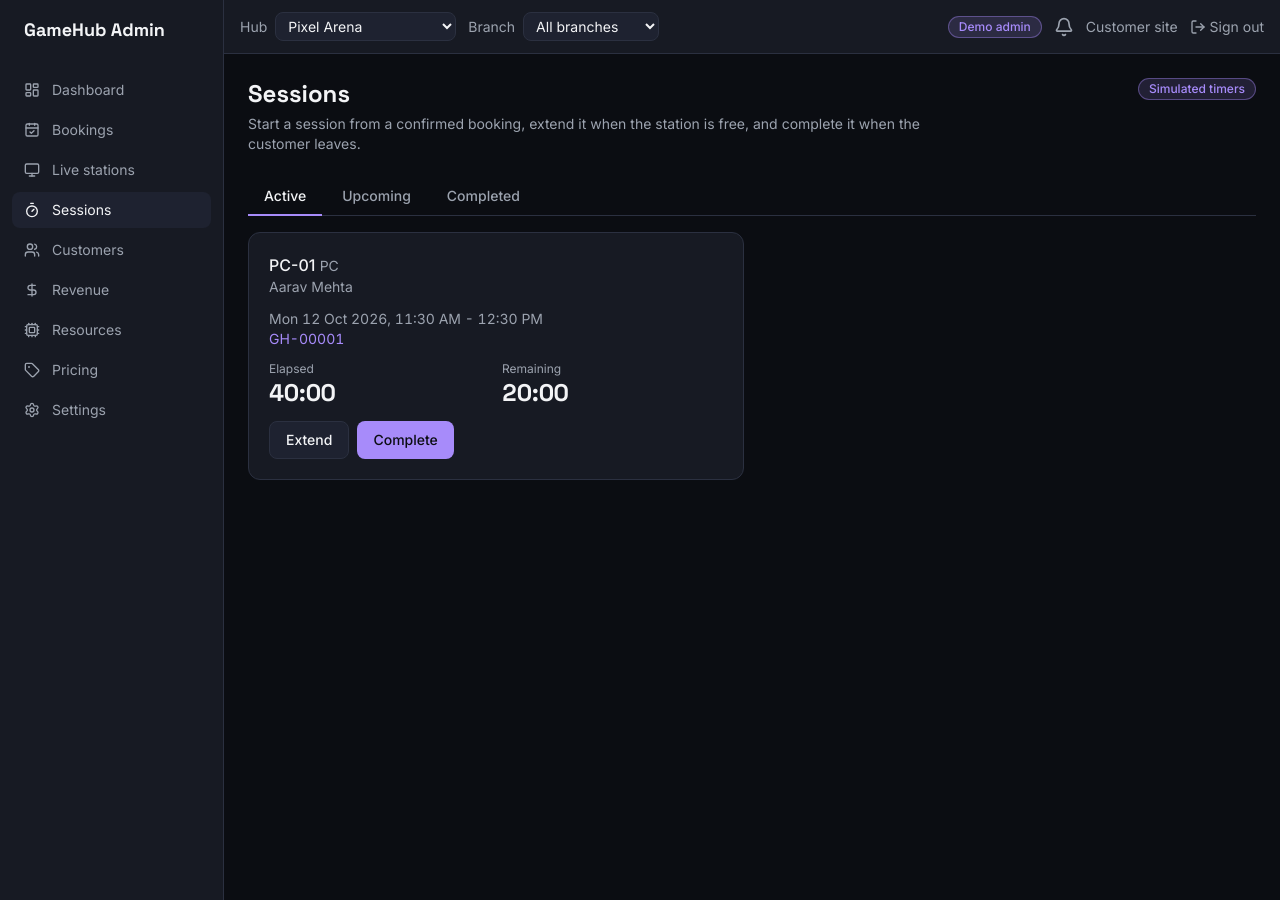
Test: Sessions › rejects an extension that clashes and shows the validation result
Click the button "Extend". click: (309, 440)
box: [269,421,349,459]
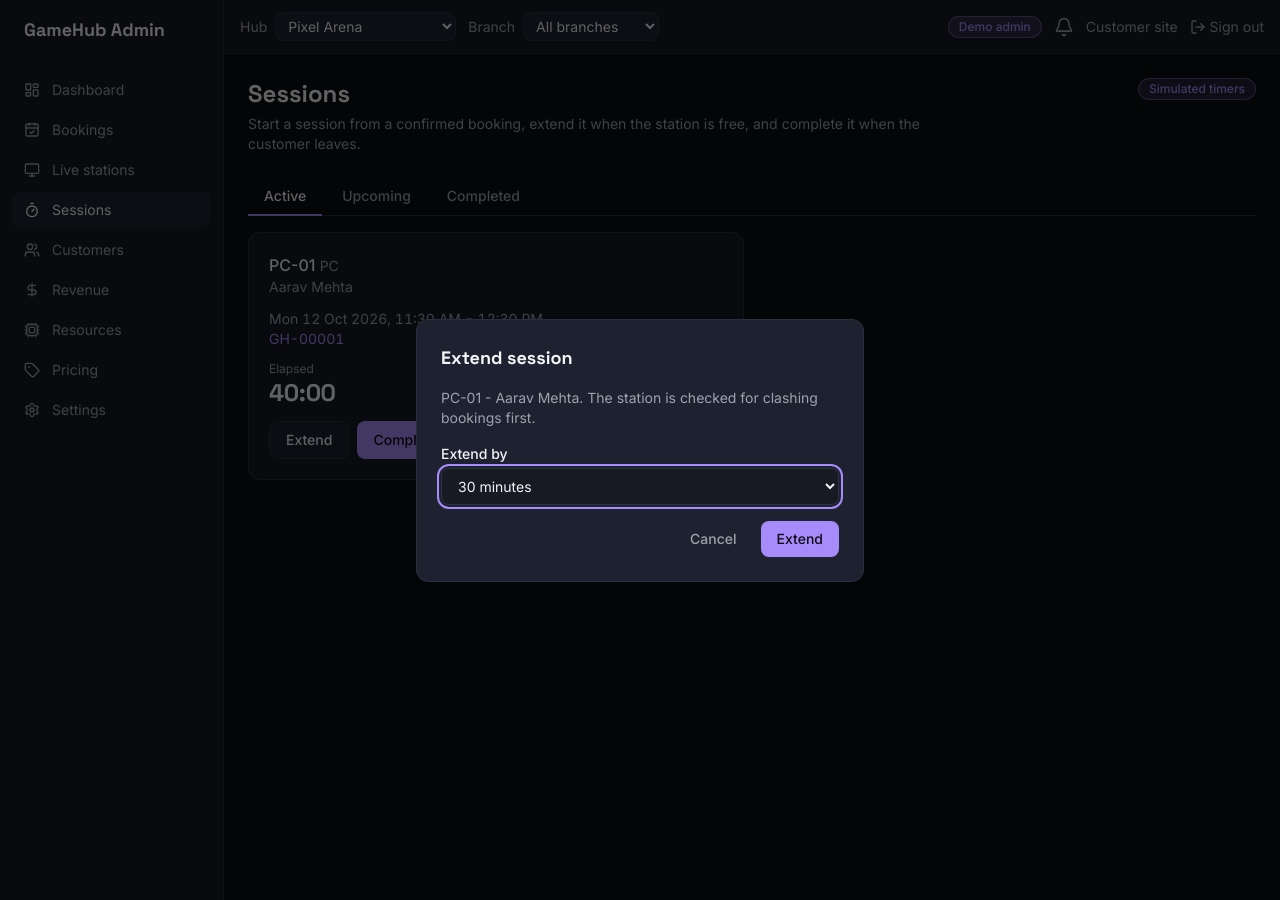
Click the button "Extend". click: (800, 538)
box: [761,520,839,556]
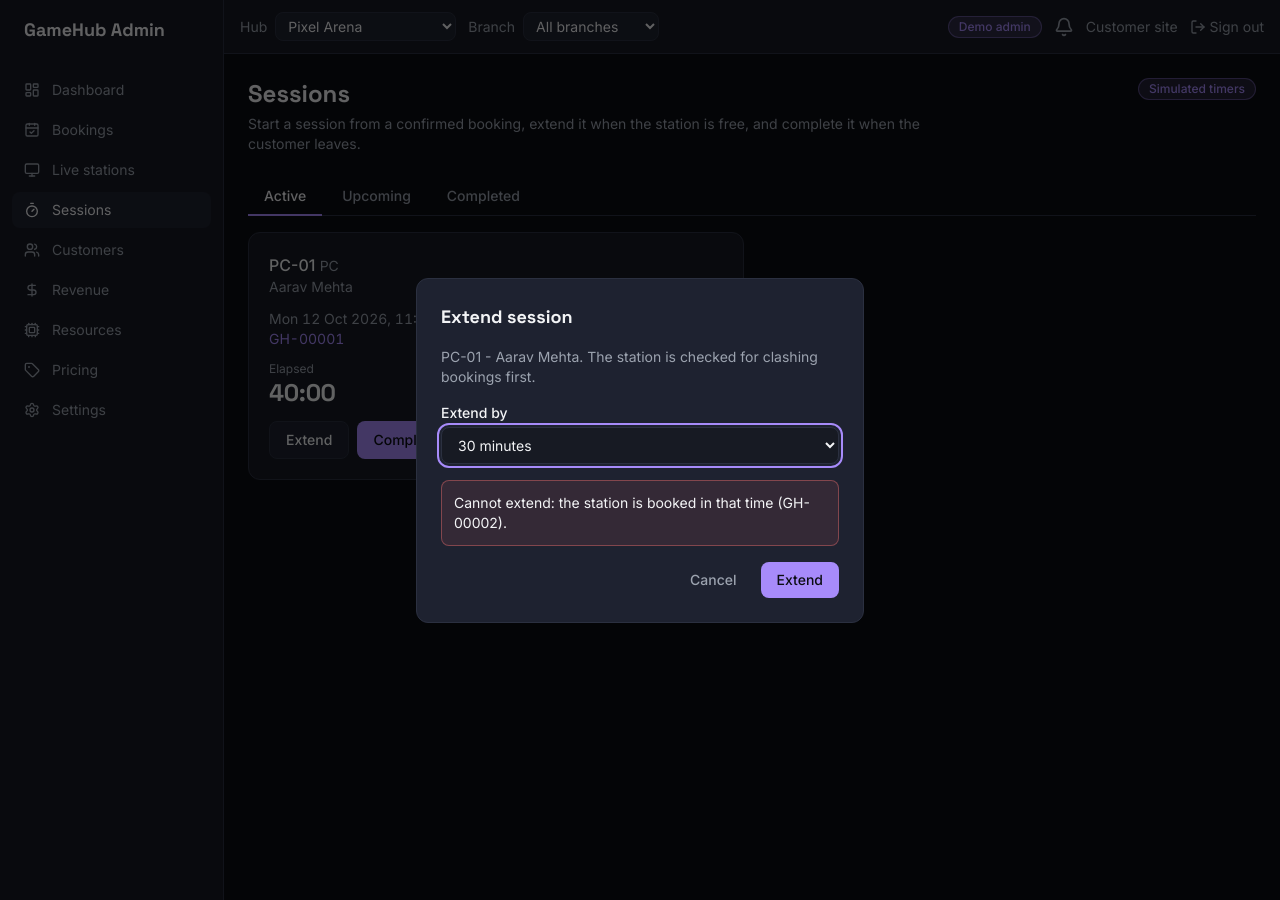
Result: the message shows "Cannot extend" at [454,494,810,530]
Result: the message shows "GH-00002" at [454,494,810,530]
